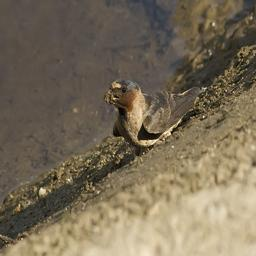Swallow: (105, 78, 203, 151)
